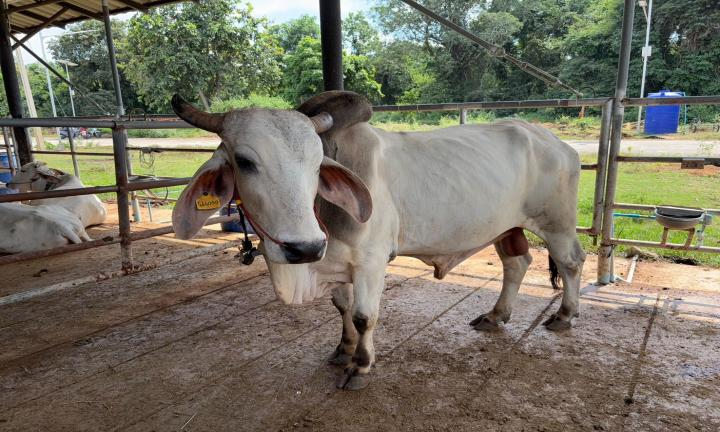Brahman: (172, 91, 585, 390)
